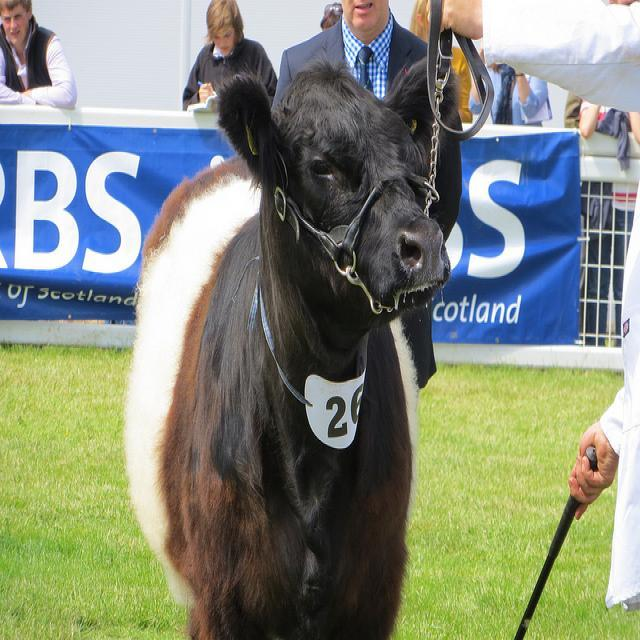cow: (124, 53, 450, 632)
